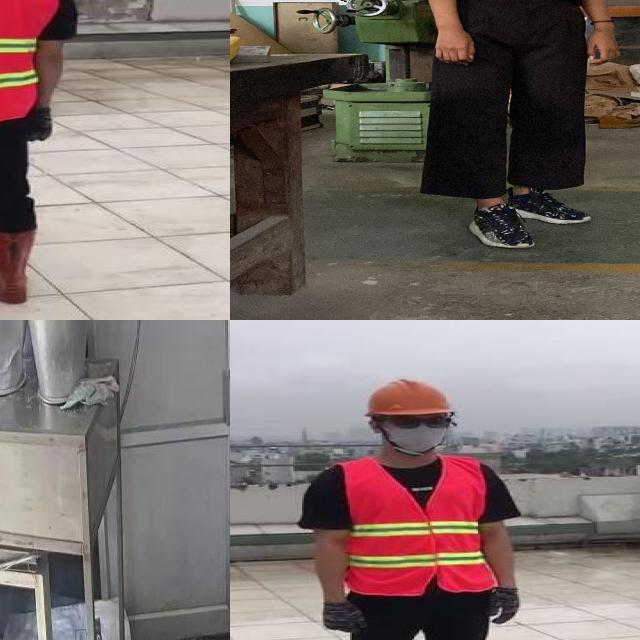boots: (0, 225, 34, 306)
face_mask: (381, 414, 452, 450)
glasses: (383, 411, 457, 431)
hand_glove: (316, 599, 366, 634), (489, 586, 531, 627), (26, 107, 60, 144)
hand_noglove: (425, 25, 483, 68), (583, 29, 629, 67)
head_helmet: (364, 377, 457, 418)
head_nohelmet: (397, 0, 640, 269)
person: (295, 374, 528, 640), (0, 0, 81, 313)
shoes: (459, 202, 544, 252), (501, 188, 596, 226)
vest: (341, 457, 498, 591), (0, 0, 55, 120)
